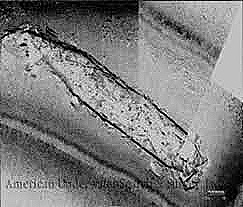ship: (23, 28, 209, 191)
